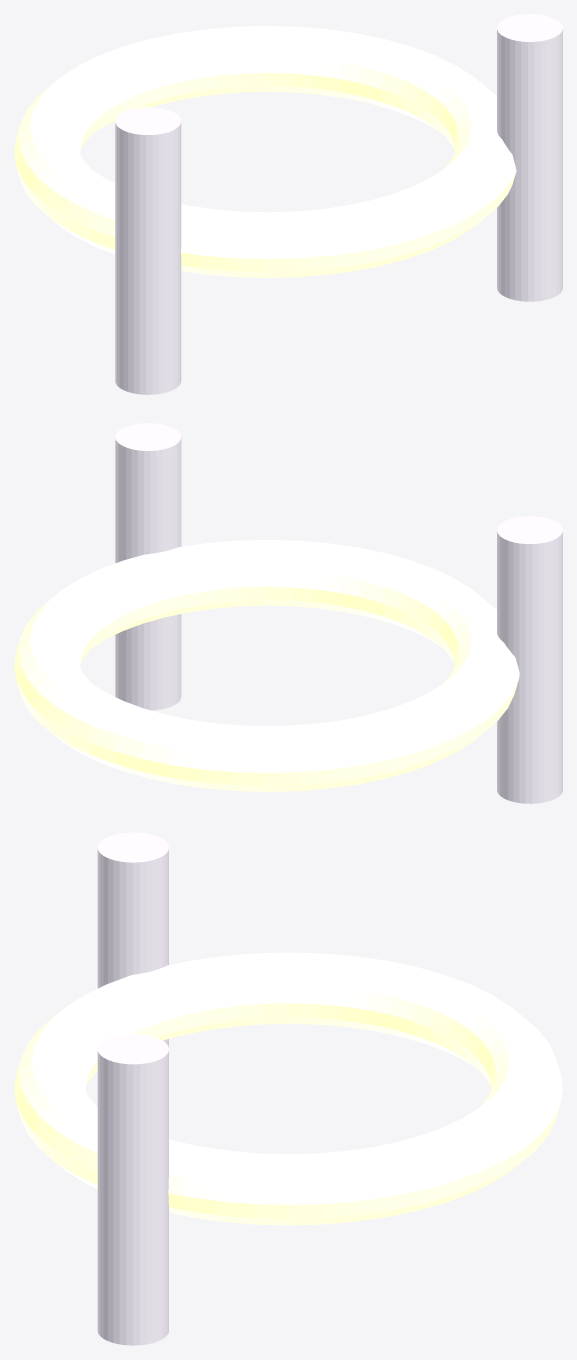
File: gate.glb
The picture shows the model from 3 angles, top to bottom: view 1: azimuth 30°, elevation 25°; view 2: azimuth 150°, elevation 25°; view 3: azimuth 270°, elevation 25°; orthographic projection. The views are drawn at different scales.
Parts seen in each view (by area): view 1: Torus.002, Cylinder, Cylinder.001; view 2: Torus.002, Cylinder, Cylinder.001; view 3: Torus.002, Cylinder.001, Cylinder.
Boxes of the visible parts, x1,y1,x2,y2 form: Torus.002: (14,26,516,277); Cylinder: (115,107,181,394); Cylinder.001: (497,14,562,301); Torus.002: (14,540,519,791); Cylinder: (497,516,562,803); Cylinder.001: (115,423,181,710); Torus.002: (14,952,562,1225); Cylinder.001: (97,1034,168,1345); Cylinder: (97,832,168,1047).
Size of the model in its own units: 4.6 by 2.6 by 4.6.
